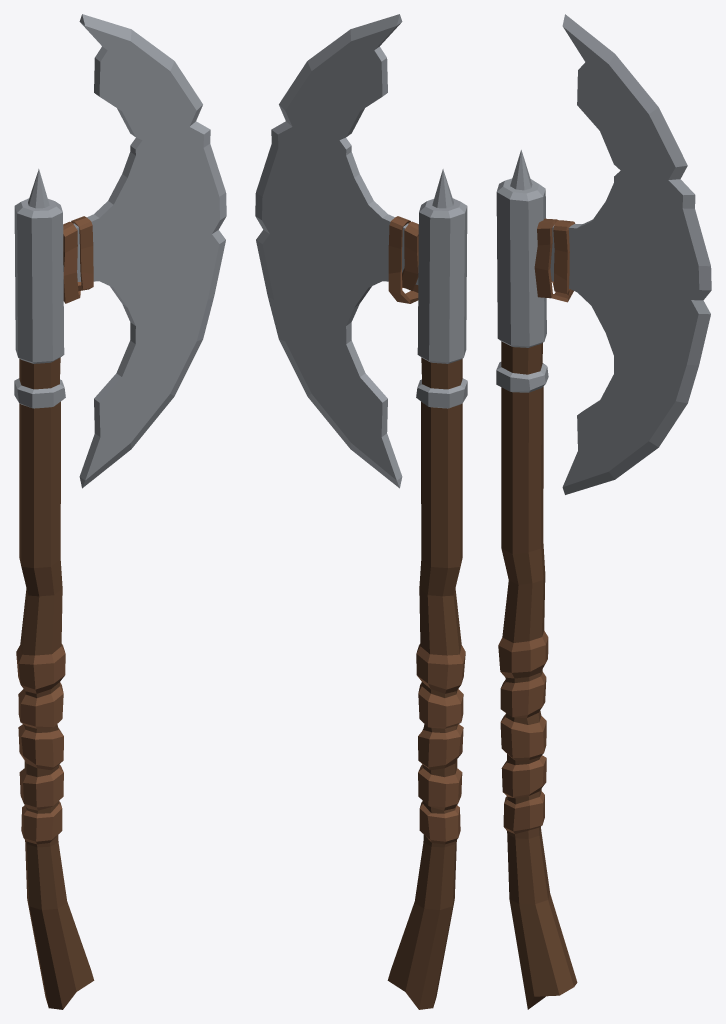
Rendered from Axe.glb.
The picture shows the model from 3 angles, left to right: view 1: azimuth 30°, elevation 25°; view 2: azimuth 150°, elevation 25°; view 3: azimuth 330°, elevation 25°; orthographic projection.
Parts seen in each view (by area): view 1: Steel, DarkWood, LightWood, LightSteel; view 2: Steel, DarkWood, LightWood, LightSteel; view 3: Steel, DarkWood, LightWood, LightSteel.
Part boxes in pixels (<box>): Steel: <box>14,22,219,480</box>; DarkWood: <box>19,357,94,1009</box>; LightWood: <box>16,216,93,844</box>; LightSteel: <box>79,14,226,488</box>; Steel: <box>262,22,467,480</box>; DarkWood: <box>387,357,462,1009</box>; LightWood: <box>388,216,465,844</box>; LightSteel: <box>255,14,402,488</box>; Steel: <box>496,27,699,486</box>; DarkWood: <box>501,341,577,1009</box>; LightWood: <box>498,218,575,833</box>; LightSteel: <box>562,14,711,494</box>.
Size of the model in its own units: 1.17 by 5.26 by 0.2483.
